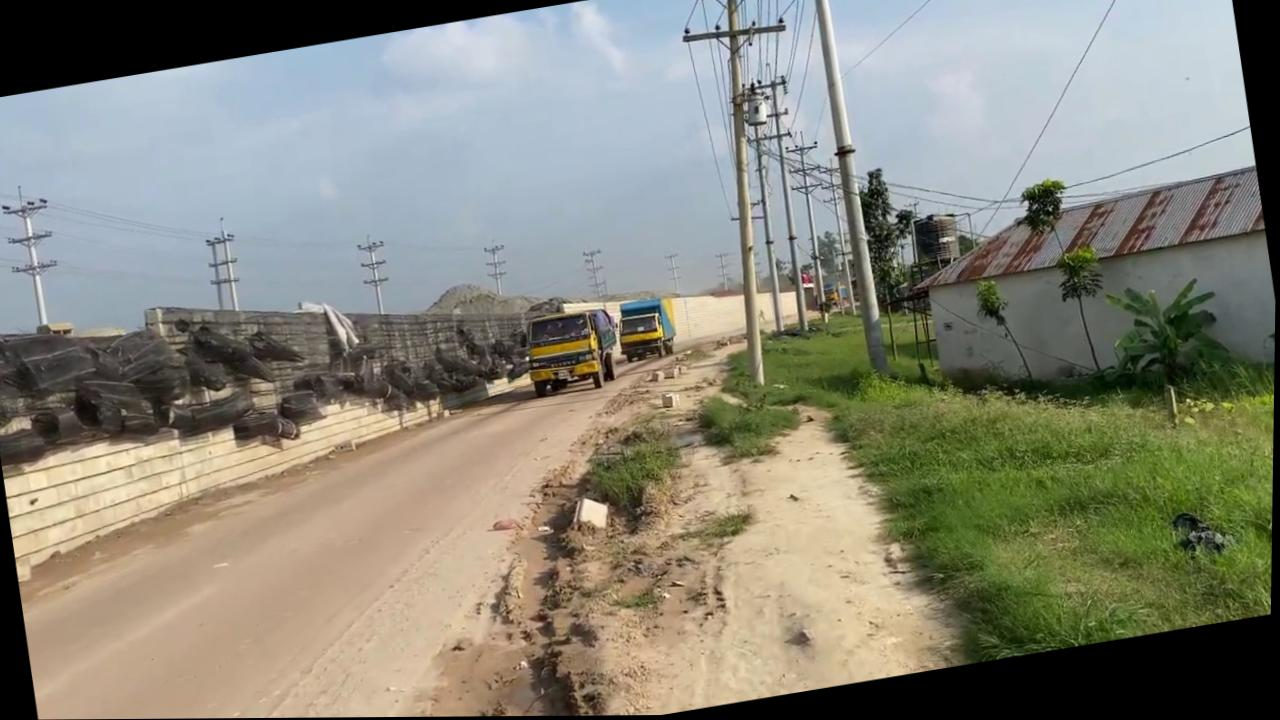Muddy road: (0, 340, 733, 720)
Obstacle: (570, 492, 614, 534), (661, 391, 683, 410)
Pole: (669, 0, 840, 391), (801, 0, 896, 380)
Rickshaw: (470, 305, 975, 717)
Traffic-sign: (1052, 243, 1119, 378), (970, 273, 1036, 390)
Tree: (520, 304, 625, 399), (612, 295, 679, 364)
Upstairs: (0, 245, 540, 490)
